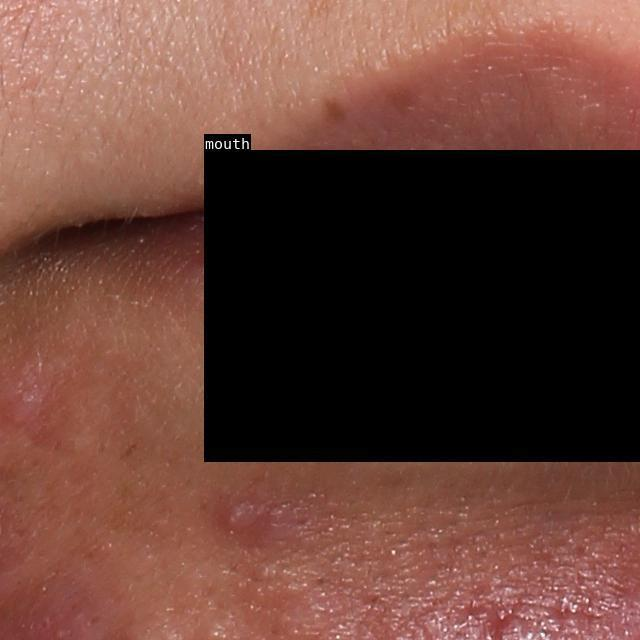nevus: (321, 93, 349, 122)
papule: (218, 489, 269, 542)
